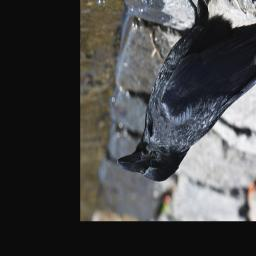Crow: (114, 0, 256, 183)
